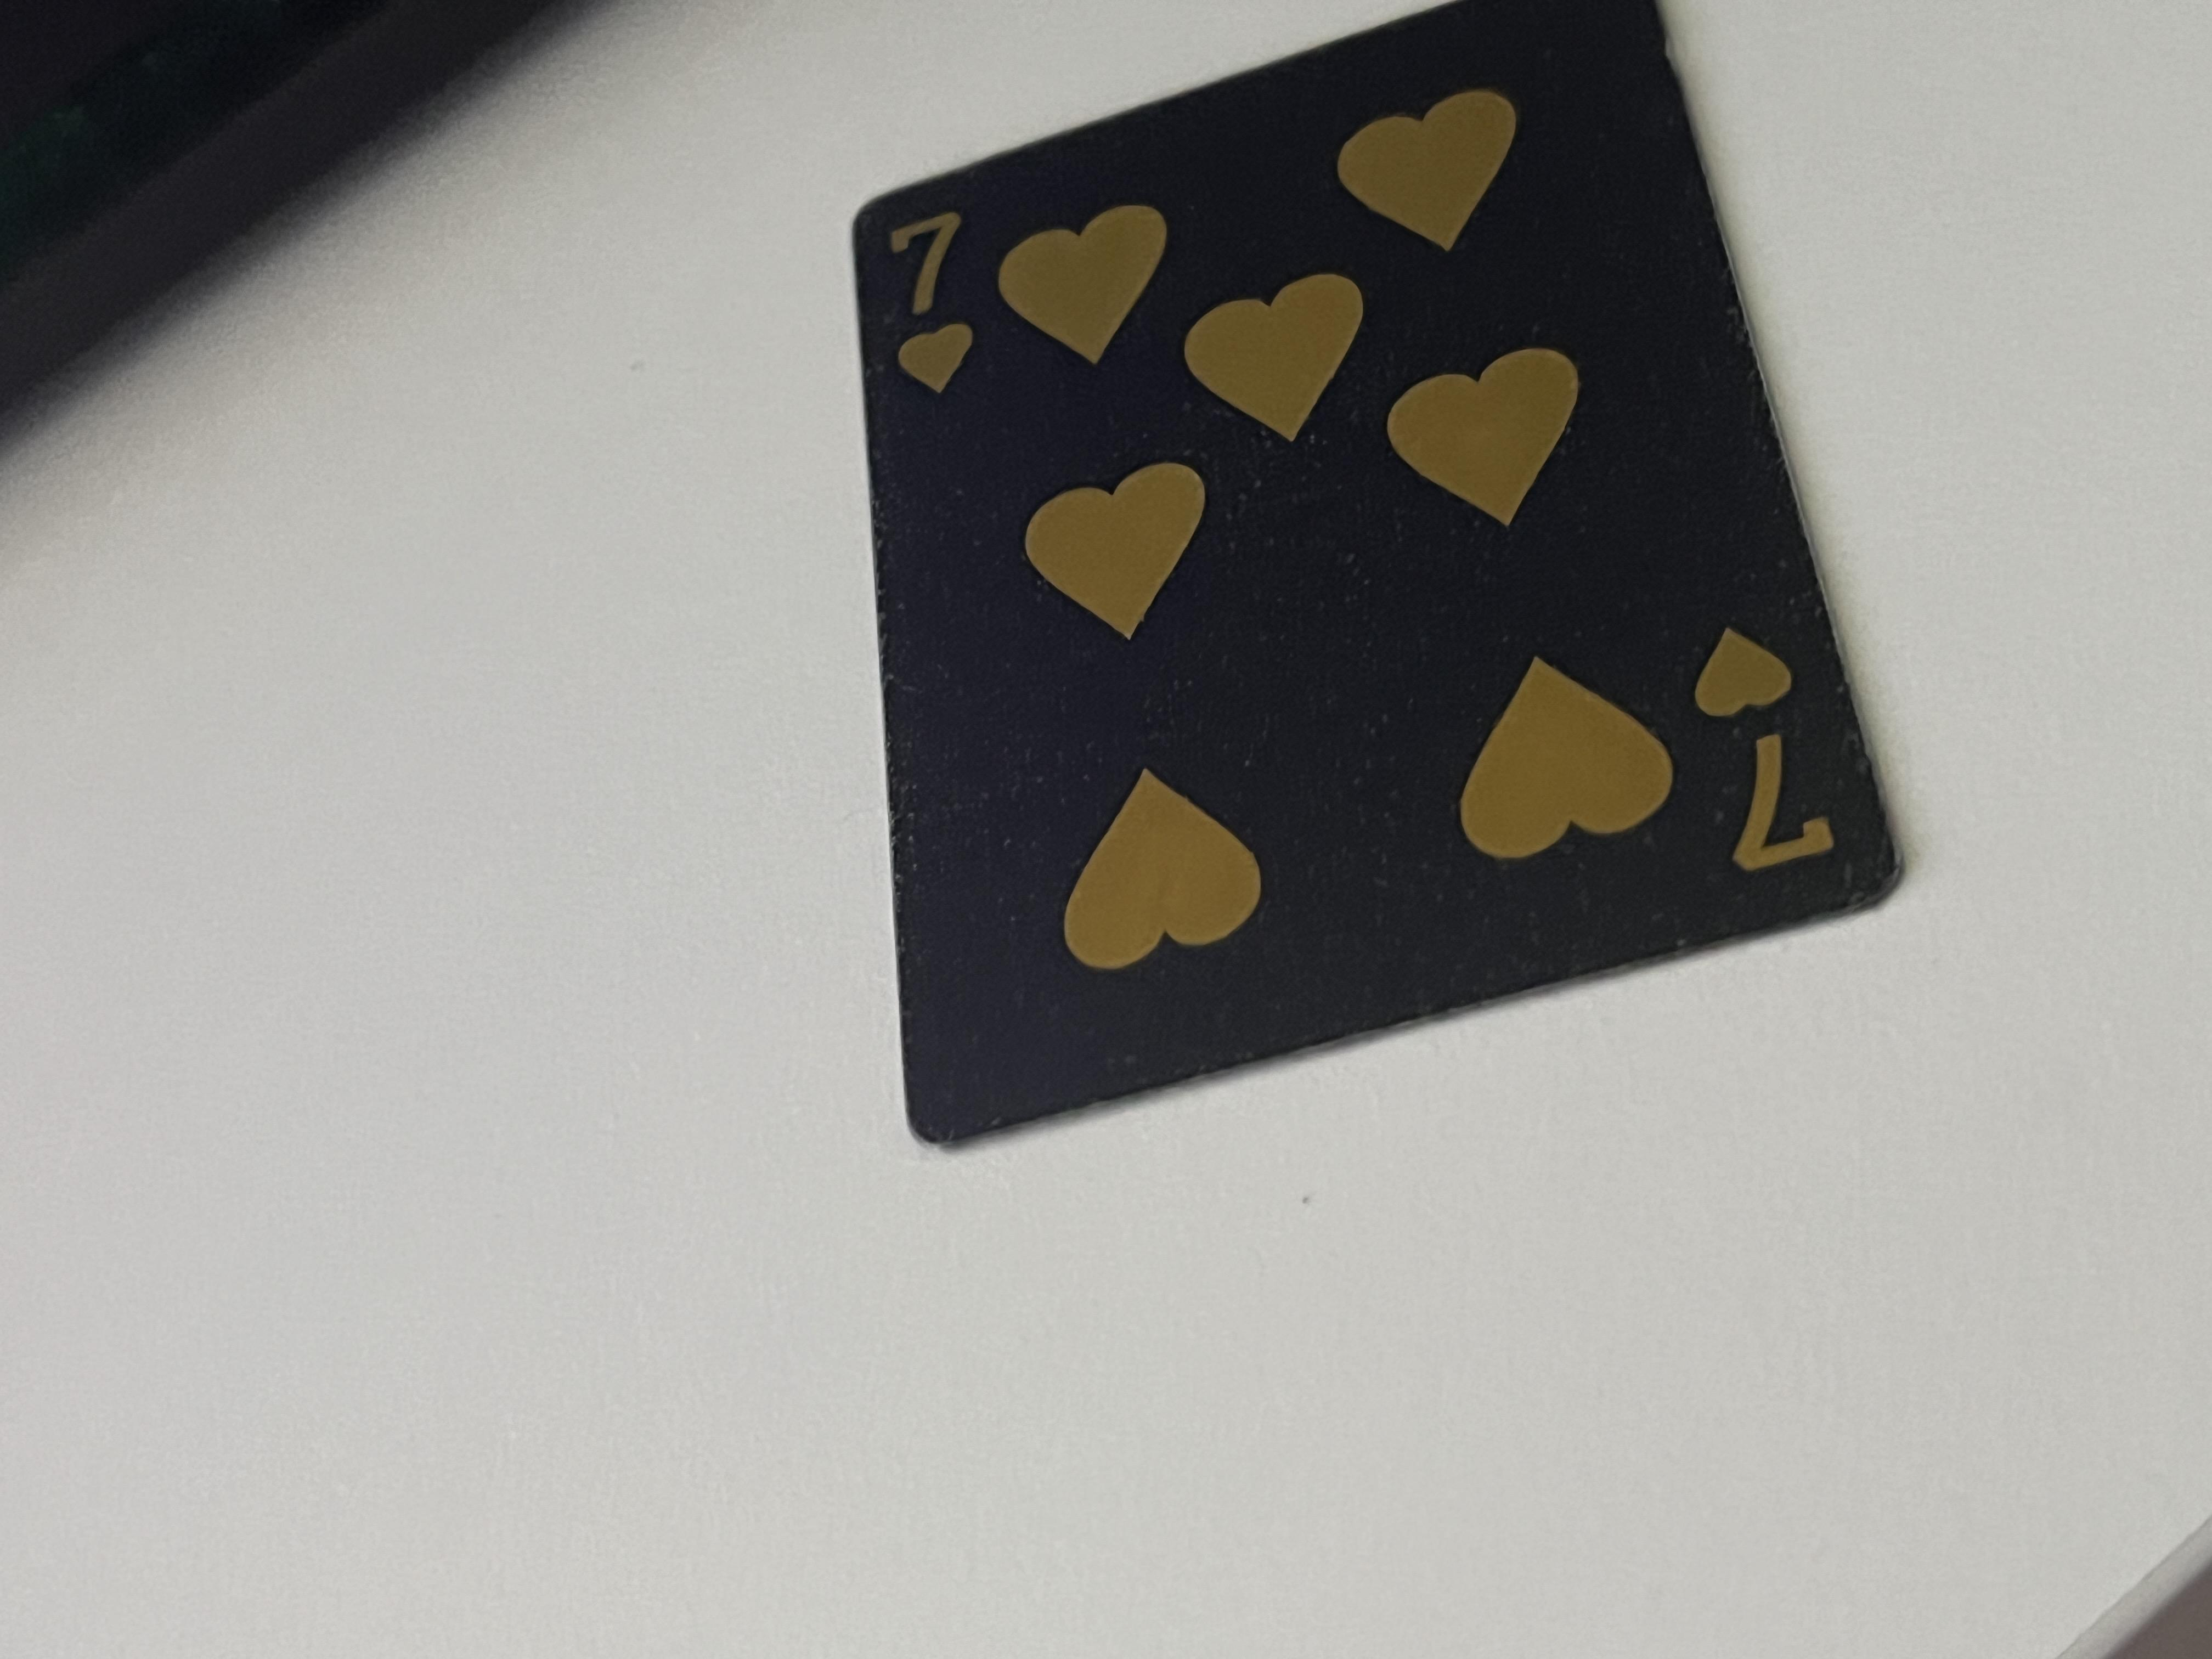7H: (1014, 1249, 1420, 1377), (1669, 640, 1979, 748)
